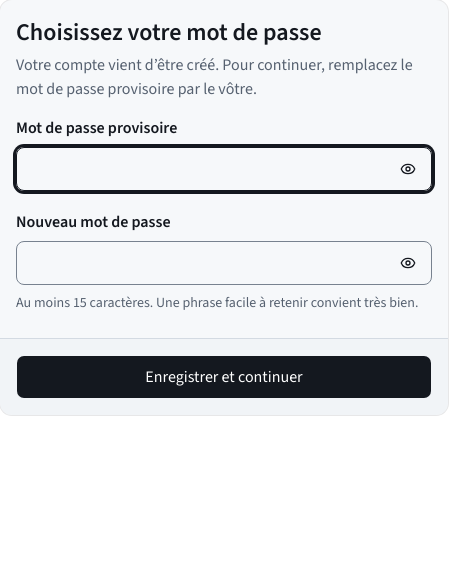
Scenario: ChangePasswordForm › points at the temporary password when that is the wrong one
Type "pas le bon" into the password field labelled "Mot de passe provisoire" at (224, 169), box top-left (16, 147), bottom-right (432, 191)
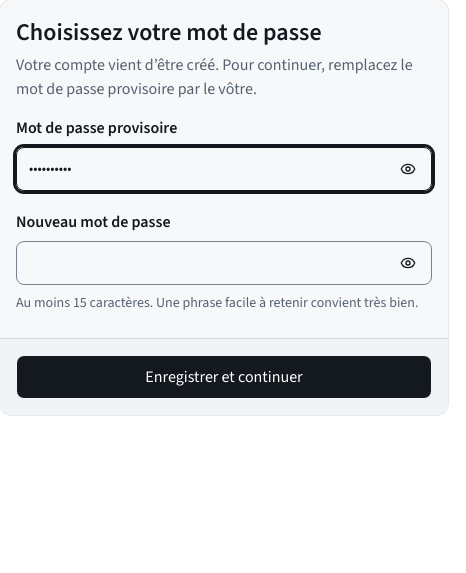
Type "une nouvelle phrase de passe" into the password field labelled "Nouveau mot de passe" at (224, 263), box top-left (16, 241), bottom-right (432, 285)
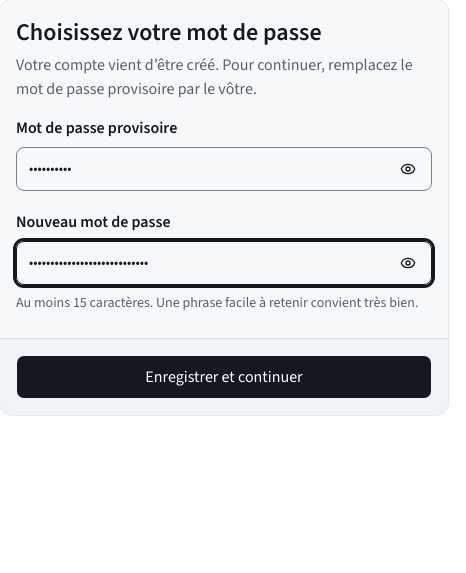
Click the button "Enregistrer et continuer" at (224, 377), box top-left (16, 355), bottom-right (432, 399)
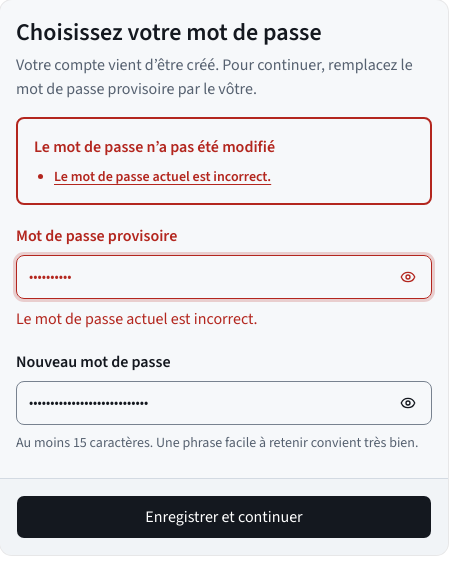
Expected: the message shows "Le mot de passe actuel est incorrect.", top-left (54, 167), bottom-right (271, 187)
